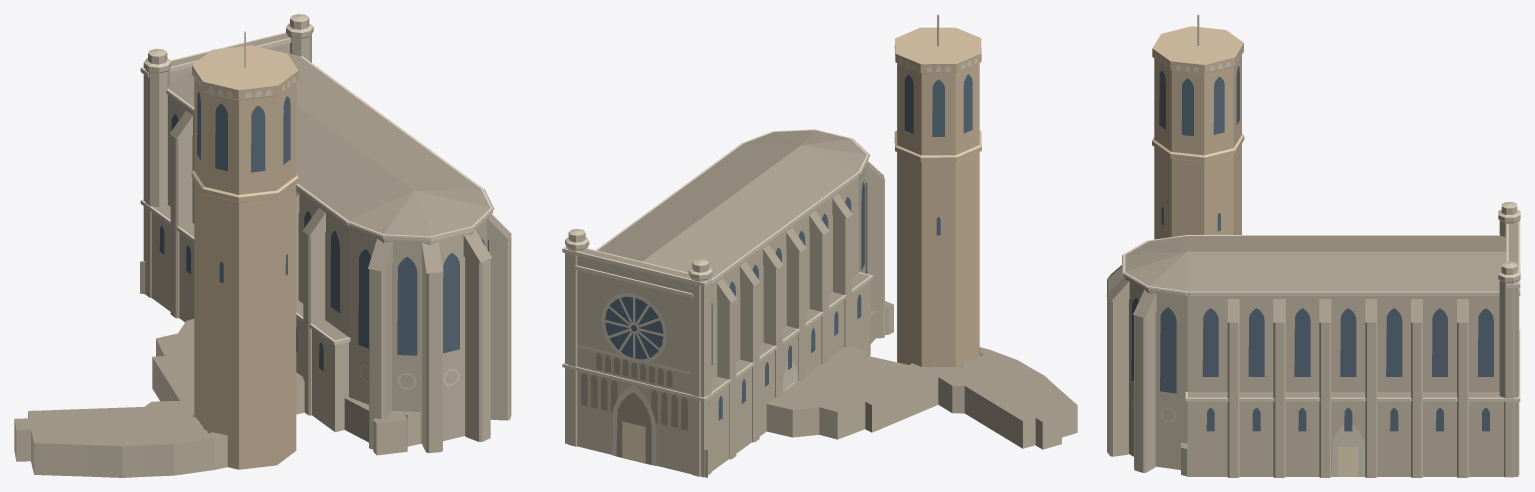
Rendered from barcelona-santa-maria-del-pi.glb.
3 renders of one model, left to right at view 1: azimuth 30°, elevation 25°; view 2: azimuth 150°, elevation 25°; view 3: azimuth 270°, elevation 25°, orthographic. The views are drawn at different scales.
Visible parts, largest first — view 1: Santa Maria del Pi; view 2: Santa Maria del Pi; view 3: Santa Maria del Pi.
Boxes of the visible parts, <box> form: Santa Maria del Pi: <box>14,14,511,477</box>; Santa Maria del Pi: <box>562,14,1077,477</box>; Santa Maria del Pi: <box>1106,14,1520,477</box>.
Bounding box in the file's own units: 64.1 × 59.2 × 61.7.
